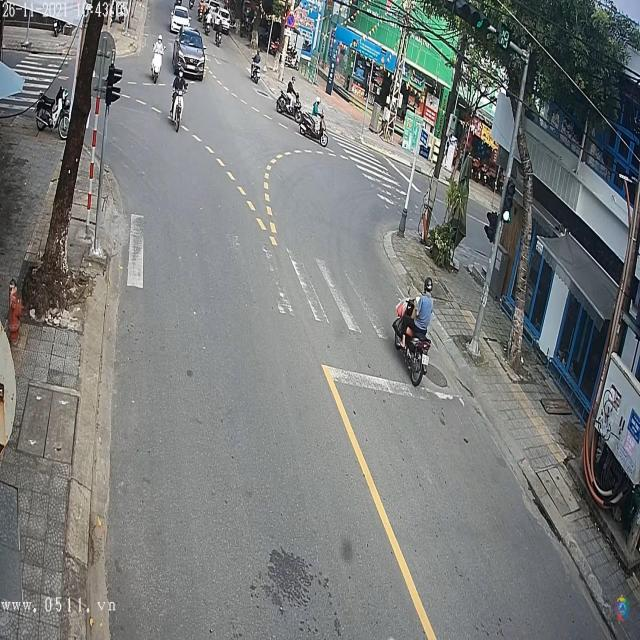car: (175, 30, 208, 76), (170, 7, 188, 33)
motorcycle: (392, 291, 431, 388), (298, 105, 330, 147), (170, 83, 185, 132), (150, 41, 162, 86), (249, 54, 262, 86)
